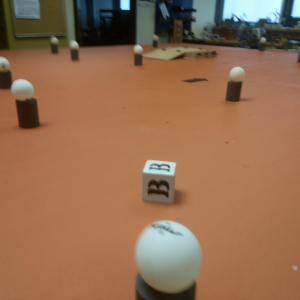blockB: (140, 160, 179, 200)
obstacle: (127, 216, 211, 300), (11, 79, 41, 129), (225, 63, 245, 104), (132, 43, 145, 66), (49, 34, 61, 53), (1, 60, 13, 78), (69, 41, 80, 60), (258, 36, 266, 50), (152, 35, 160, 47)
side: (189, 49, 218, 58)
slope: (152, 48, 185, 61)
start: (180, 76, 208, 86)
